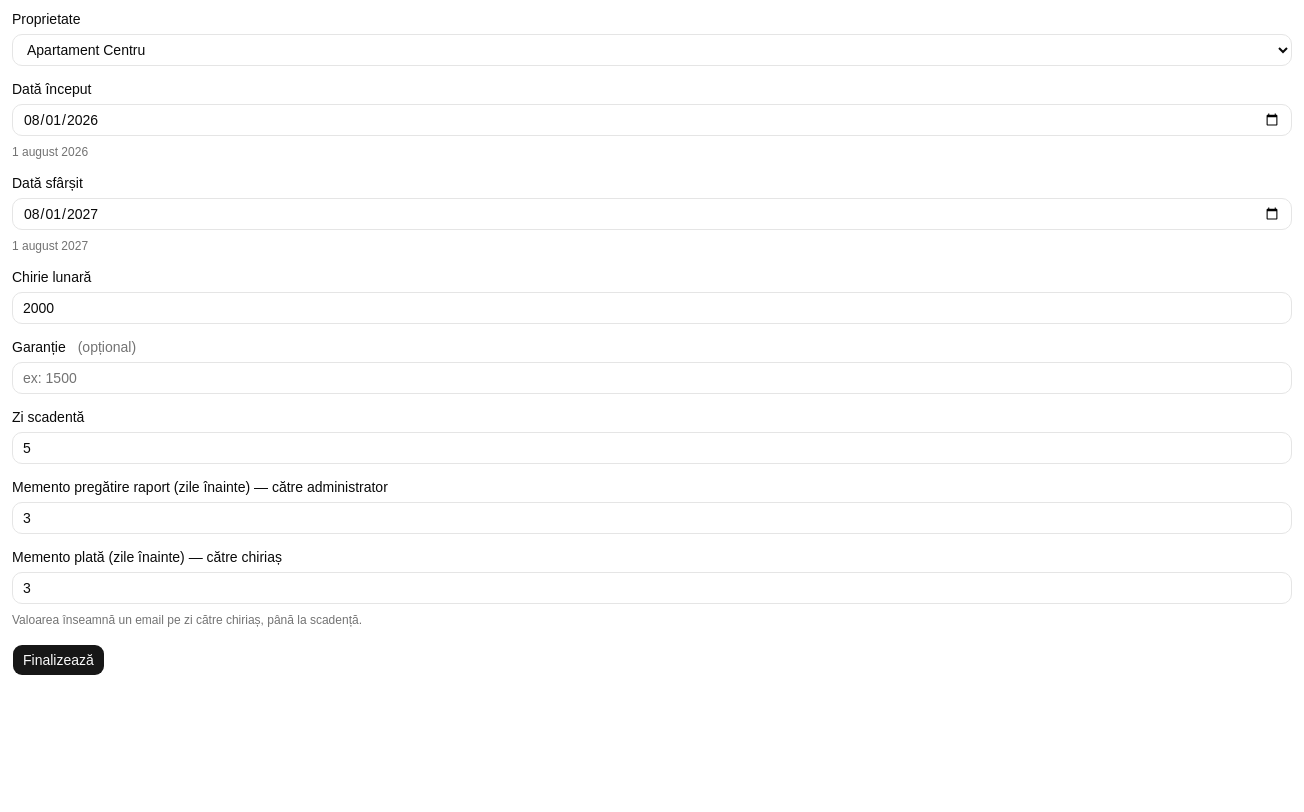
Scenario: StepContract — finalize errors › occupied property shows a clear inline message (not a dialog)
Click the button "Finalizează": click(58, 660) [12,644,105,676]
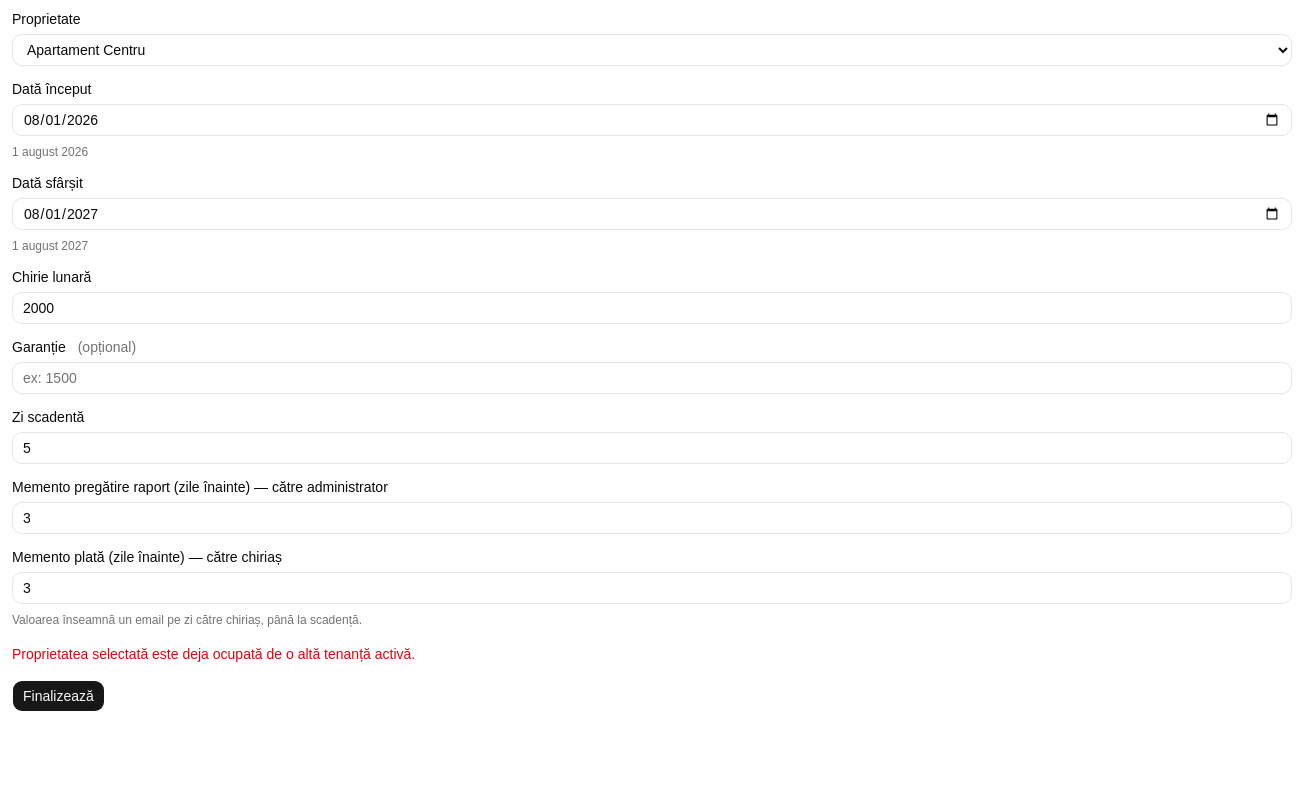
Check: the message shows "Proprietatea selectată este deja ocupată", box [12,646,415,662]
